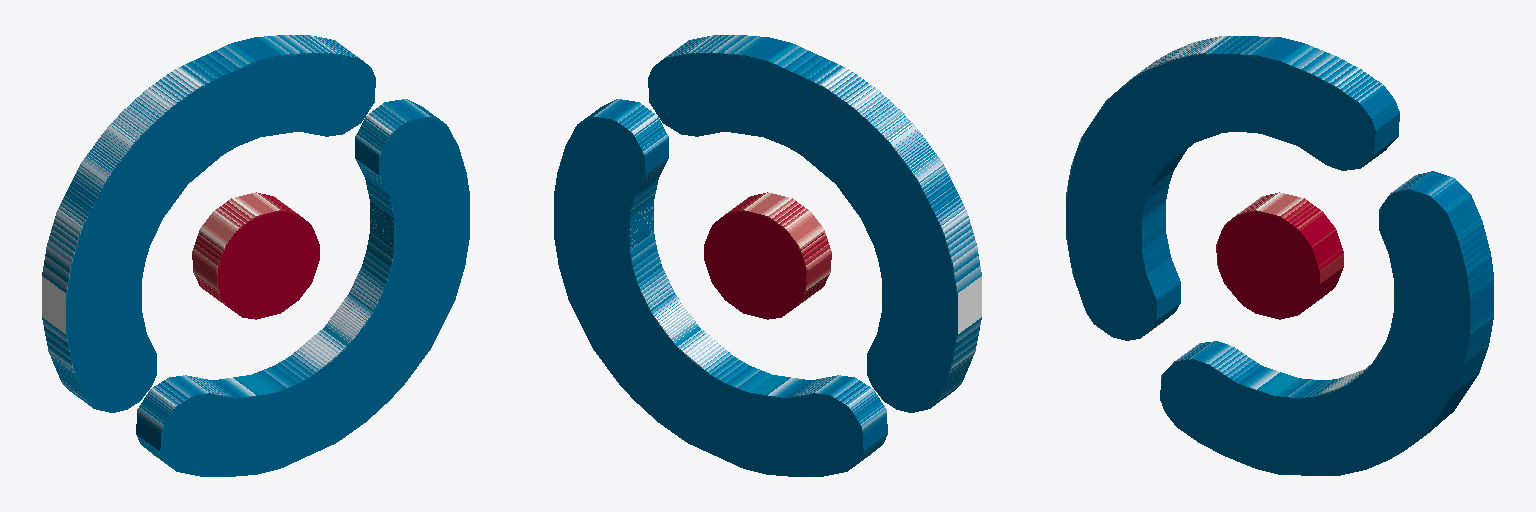
The picture shows the model from 3 angles: view 1: azimuth 30°, elevation 25°; view 2: azimuth 150°, elevation 25°; view 3: azimuth 330°, elevation 25°; orthographic projection.
Visible parts, largest first — view 1: Object.3, Object.2, Object.1; view 2: Object.3, Object.2, Object.1; view 3: Object.2, Object.3, Object.1.
Part boxes in pixels (left/top/right/bottom): Object.3: left=42, top=35, right=375, bottom=412; Object.2: left=136, top=99, right=469, bottom=476; Object.1: left=192, top=192, right=319, bottom=319; Object.3: left=648, top=35, right=981, bottom=412; Object.2: left=554, top=99, right=887, bottom=476; Object.1: left=704, top=192, right=831, bottom=319; Object.2: left=1160, top=171, right=1493, bottom=475; Object.3: left=1066, top=36, right=1399, bottom=340; Object.1: left=1216, top=192, right=1343, bottom=319.
Bounding box in the file's own units: 62.23 × 60.96 × 6.5.
1 materials, 1 textured.